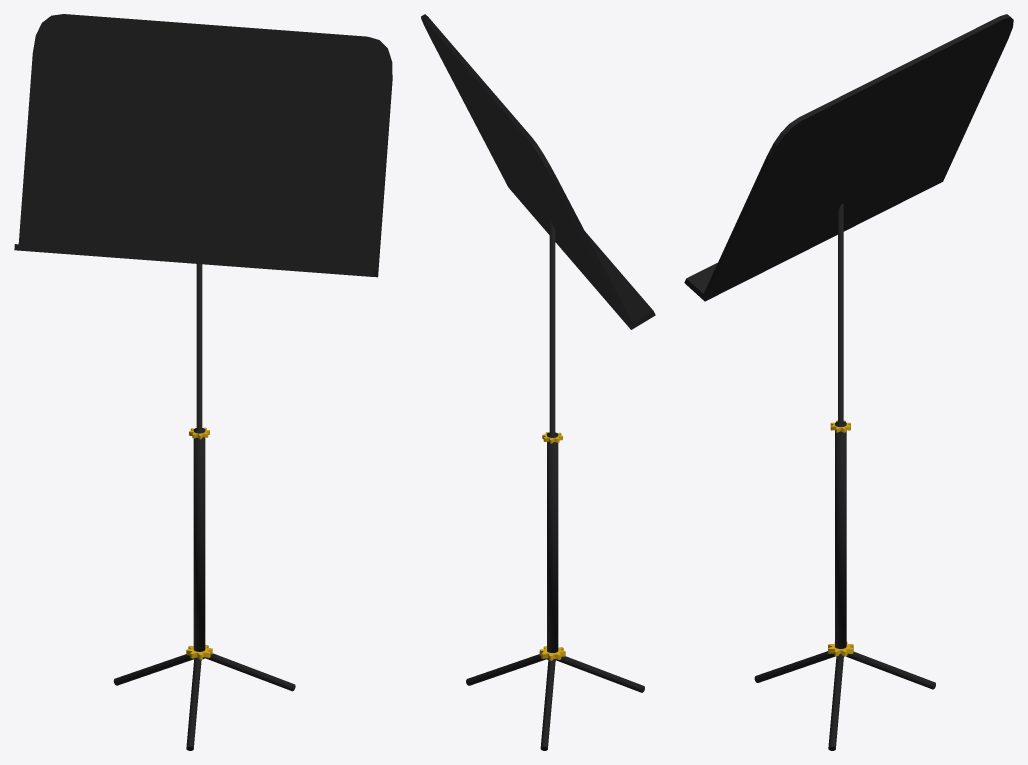
The model's file is f71a7cb7-6af5-4d85-acbd-8a83b606ed20.glb.
3 renders of one model, left to right at view 1: azimuth 30°, elevation 25°; view 2: azimuth 150°, elevation 25°; view 3: azimuth 270°, elevation 25°, orthographic. The views are drawn at different scales.
Parts seen in each view (by area): view 1: Box001, Cylinder004, Cylinder002, Cylinder001, Cylinder003; view 2: Box001, Cylinder004, Cylinder003, Cylinder002, Cylinder001; view 3: Box001, Cylinder004, Cylinder001, Cylinder003, Cylinder002.
Boxes of the visible parts, bbox=[...] form: Box001: bbox=[14, 14, 392, 277]; Cylinder004: bbox=[193, 264, 205, 659]; Cylinder002: bbox=[186, 657, 201, 750]; Cylinder001: bbox=[205, 653, 295, 691]; Cylinder003: bbox=[113, 654, 194, 685]; Box001: bbox=[421, 14, 655, 329]; Cylinder004: bbox=[547, 221, 558, 660]; Cylinder003: bbox=[540, 658, 555, 750]; Cylinder002: bbox=[556, 656, 644, 692]; Cylinder001: bbox=[466, 654, 546, 685]; Box001: bbox=[684, 14, 1013, 301]; Cylinder004: bbox=[835, 203, 846, 648]; Cylinder001: bbox=[828, 654, 843, 750]; Cylinder003: bbox=[846, 651, 935, 689]; Cylinder002: bbox=[754, 651, 835, 682].
Size of the model in its own units: 749043 by 1523707 by 686699.
